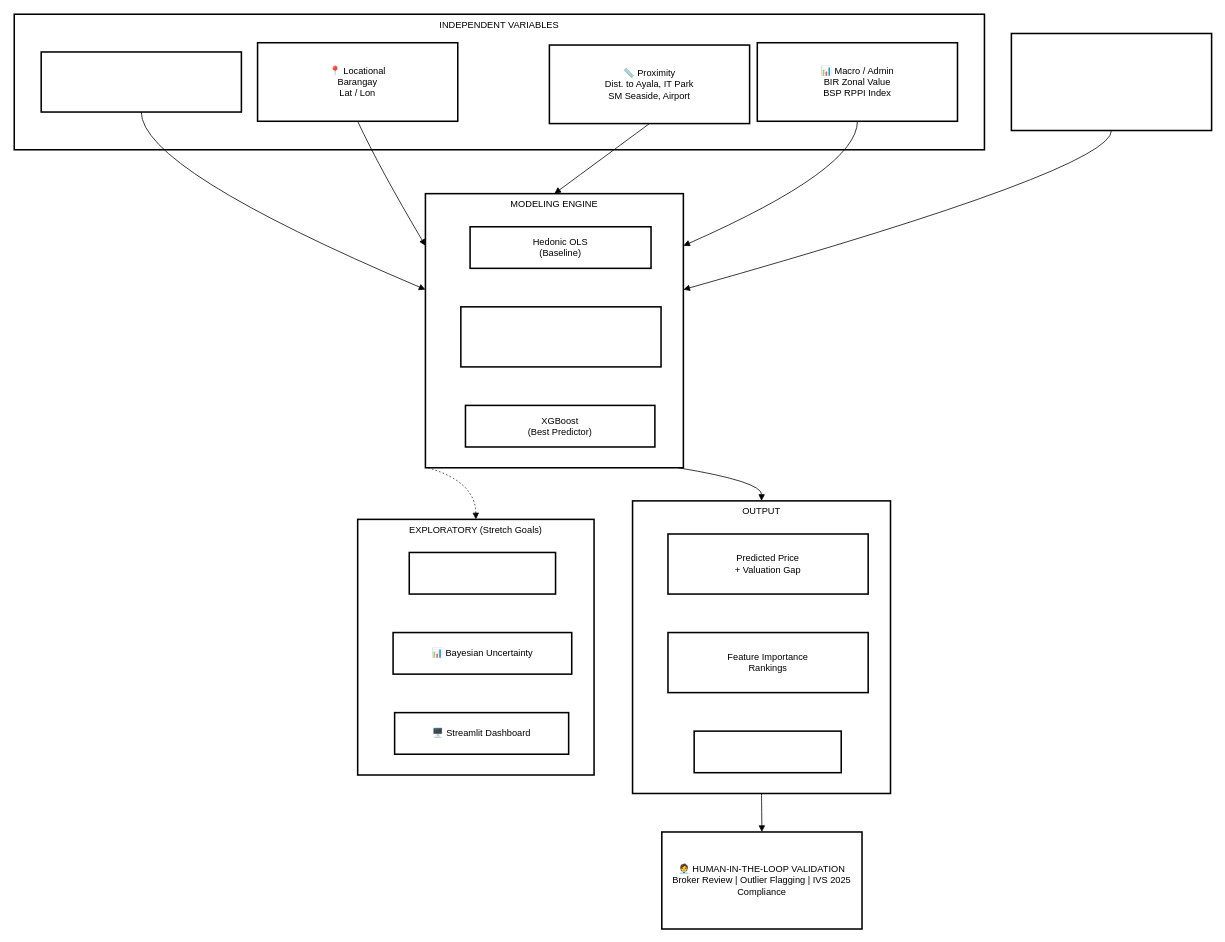
This 1225x942 diagram has some shape labels left out. The centre of each missing label's shape, as x and y in pixels:
"Random Forest (Non-linear)" goes at point (560, 336).
"SHAP Force Plots" goes at point (767, 751).
"⭐ Text Features - GIS Listing Descriptions → TF-IDF / XGBoost → Feature Vectors" goes at point (1111, 81).
"🏠 Structural Lot Area, Floor Area BR, TB, Parking" goes at point (141, 81).
"🚌 CBRT Proximity" goes at point (482, 572).
